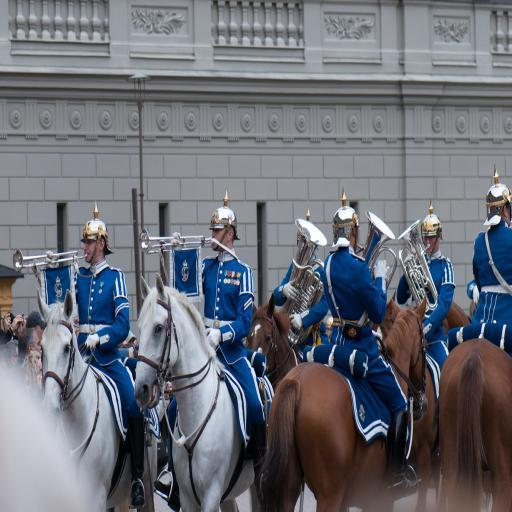horse: (35, 268, 512, 512)
